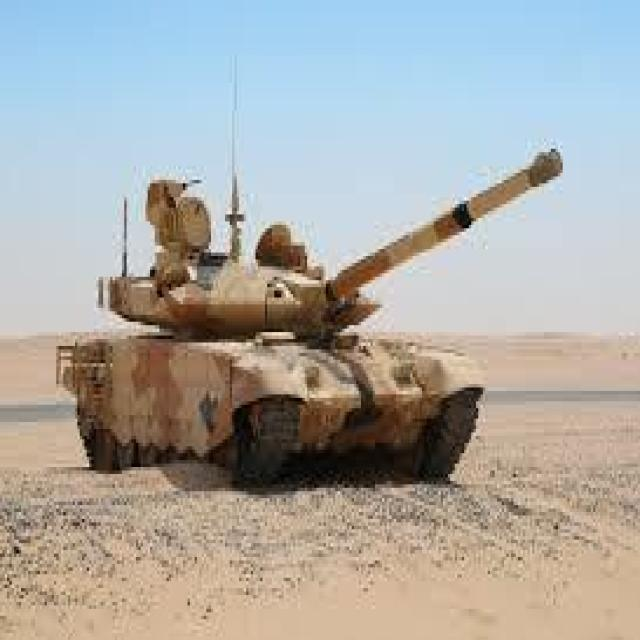MIL_MBT: (43, 178, 489, 496)
